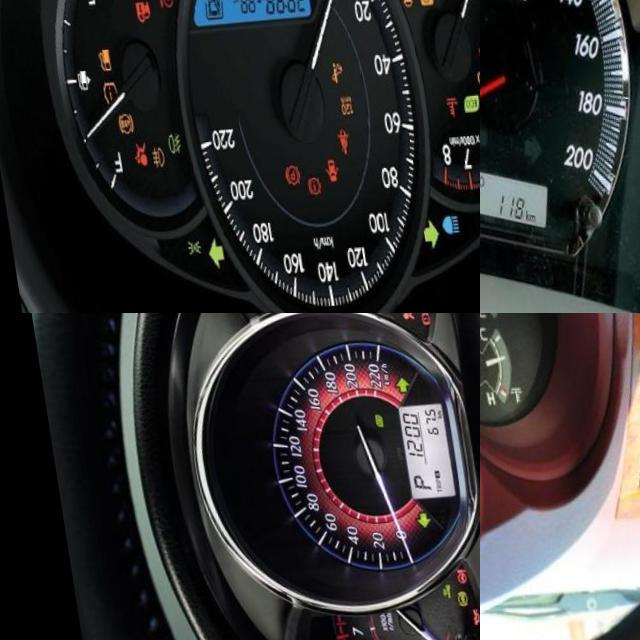Electronic Power Steering: (150, 0, 169, 13), (441, 576, 454, 592)
High Engine Coolant Temperature: (434, 102, 449, 126)
Seat Belt: (327, 135, 339, 162)
